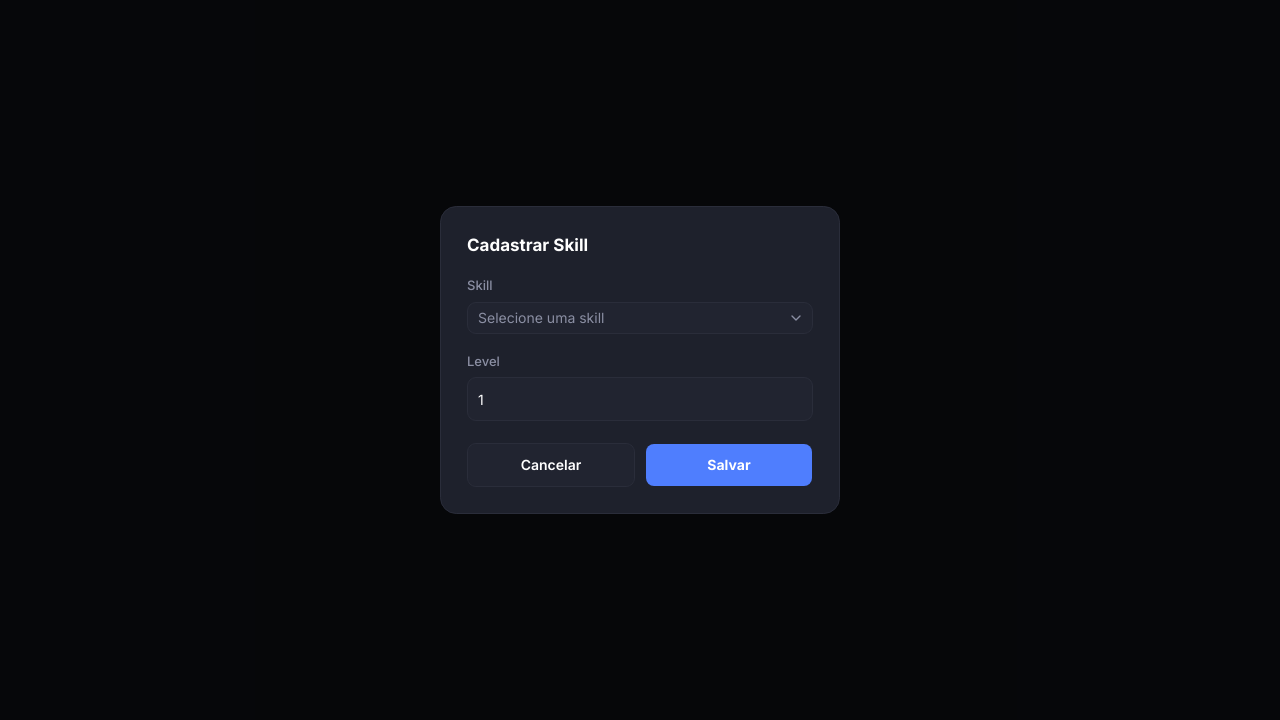
Test: AddSkillModal › shows a validation error when submitting without a selected skill
What coordinates should you click on to do the following:
click the button "Salvar"
I would click on:
 (729, 465)
Its box is x1=645 y1=443 x2=813 y2=487.
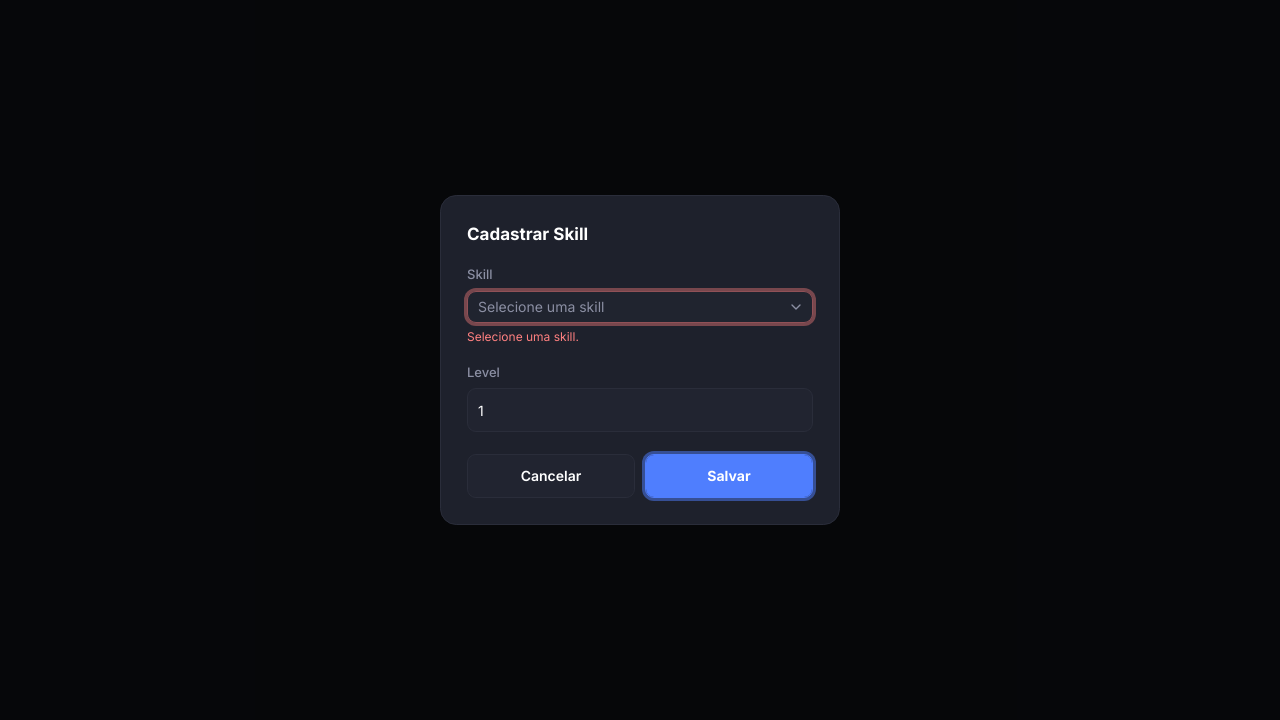
Check: the text "Selecione uma skill." is shown, box x1=467 y1=329 x2=579 y2=344
